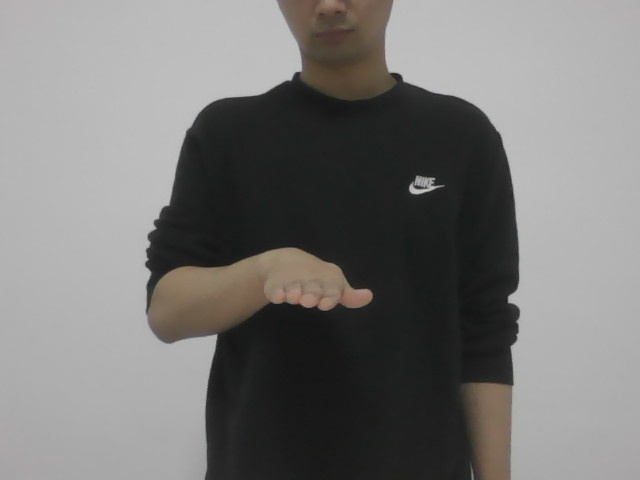slow: (259, 237, 394, 322)
